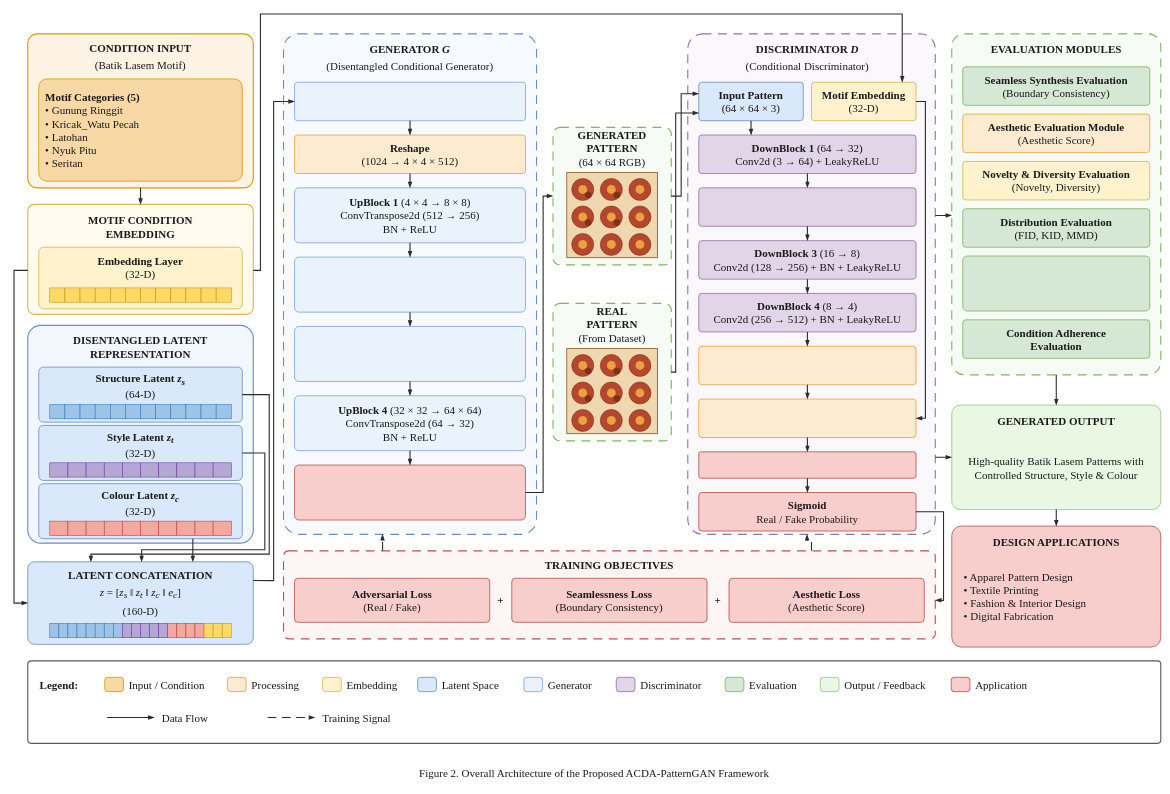
Some shapes in this 1170 by 794 pixel diagram are drawn without their labels. The centre of each missing label's shape, as x and y in pixels:
"Concatenate with Embedding (8192 + 32)" goes at point (807, 418).
"DownBlock 2 (32 → 16) Conv2d (64 → 128) + BN + LeakyReLU" goes at point (807, 206).
"Flatten (512 × 4 × 4 → 8192)" goes at point (807, 365).
"Input Projection Linear (160 → 1024) + BN + ReLU" goes at point (410, 101).
"Linear (8224 → 1)" goes at point (807, 464).
"Output Layer Conv2d (32 → 3) + Tanh Generated Pattern (64 × 64 × 3)" goes at point (410, 492).
"Perceptual Evaluation (LPIPS Similarity, LPIPS Diversity)" goes at point (1056, 283).
"UpBlock 2 (8 × 8 → 16 × 16) ConvTranspose2d (256 → 128) BN + ReLU" goes at point (410, 284).
"UpBlock 3 (16 × 16 → 32 × 32) ConvTranspose2d (128 → 64) BN + ReLU" goes at point (410, 354).
